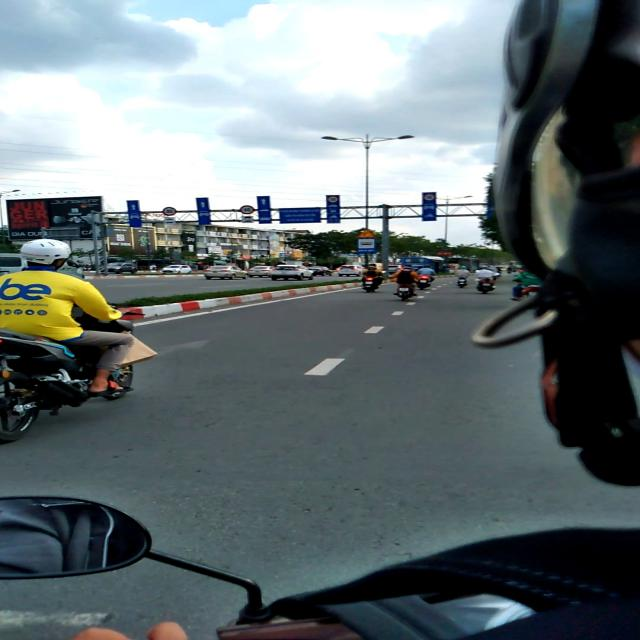P.127: (400, 185, 433, 198), (239, 205, 255, 215), (162, 207, 177, 216), (327, 195, 339, 203)
R.434: (357, 239, 376, 253)
W.201b: (358, 230, 375, 238)
